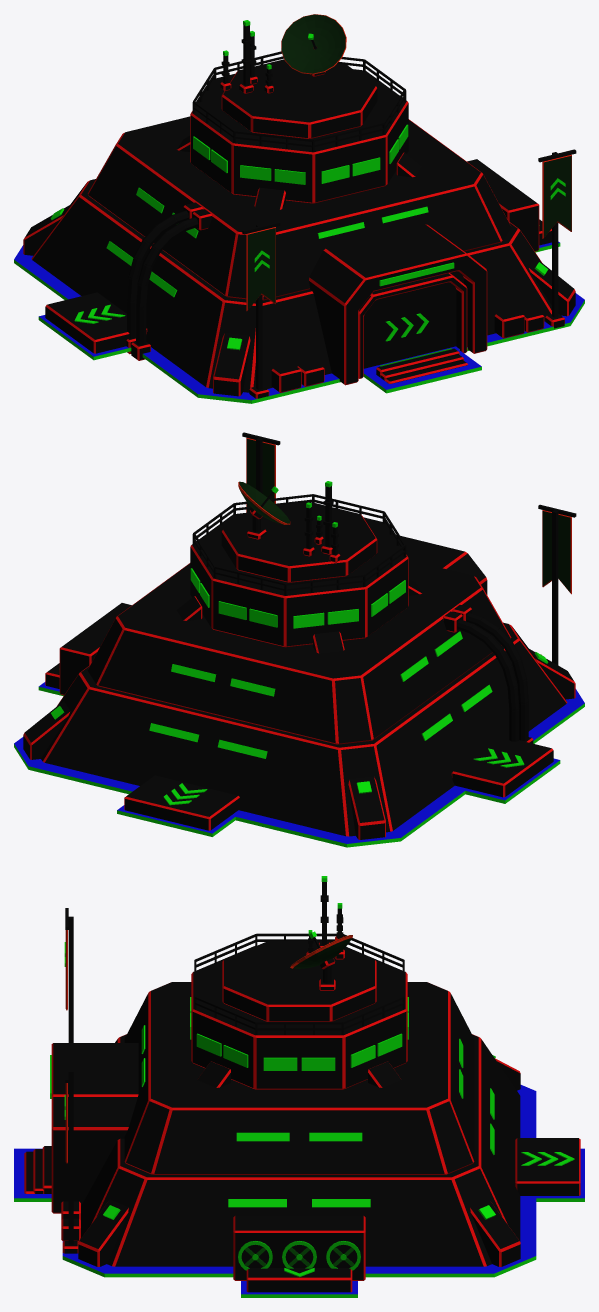
File: SM_Holo_CentralHub_T2.fbx
3 renders of one model, top to bottom at view 1: azimuth 30°, elevation 25°; view 2: azimuth 150°, elevation 25°; view 3: azimuth 270°, elevation 25°, orthographic. The views are drawn at different scales.
Parts seen in each view (by area): view 1: SM_Holo_CentralHub_T2; view 2: SM_Holo_CentralHub_T2; view 3: SM_Holo_CentralHub_T2.
Part boxes in pixels (left/top/right/bottom): SM_Holo_CentralHub_T2: left=14, top=14, right=584, bottom=403; SM_Holo_CentralHub_T2: left=14, top=432, right=584, bottom=847; SM_Holo_CentralHub_T2: left=14, top=876, right=584, bottom=1297.
Size of the model in its own units: 41 by 22.4 by 41.
